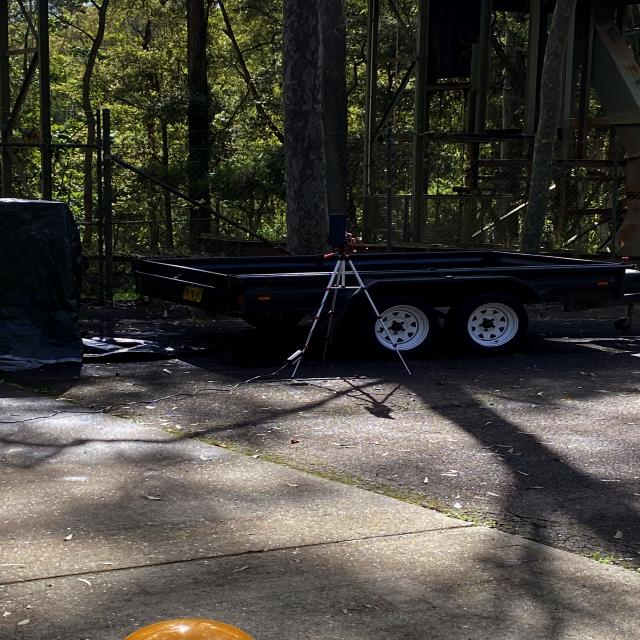matrix: (324, 211, 350, 247)
